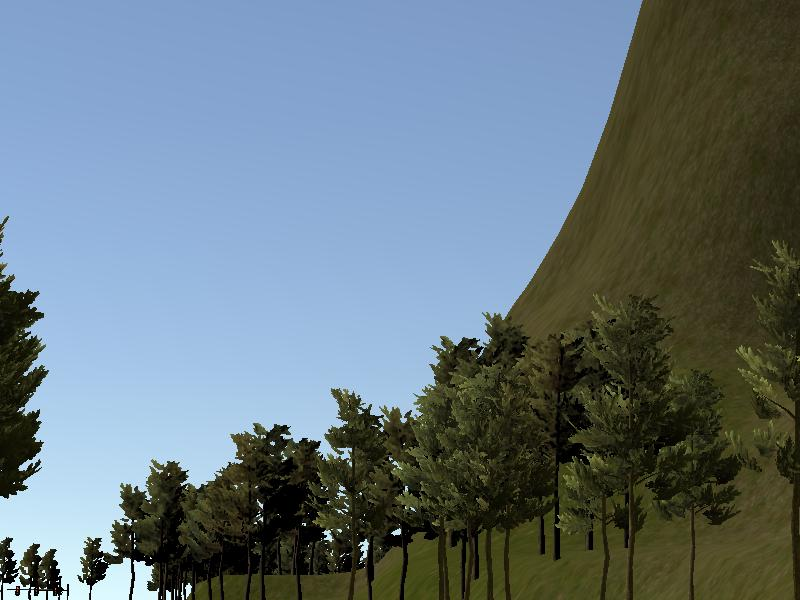background: (4, 6, 797, 599)
